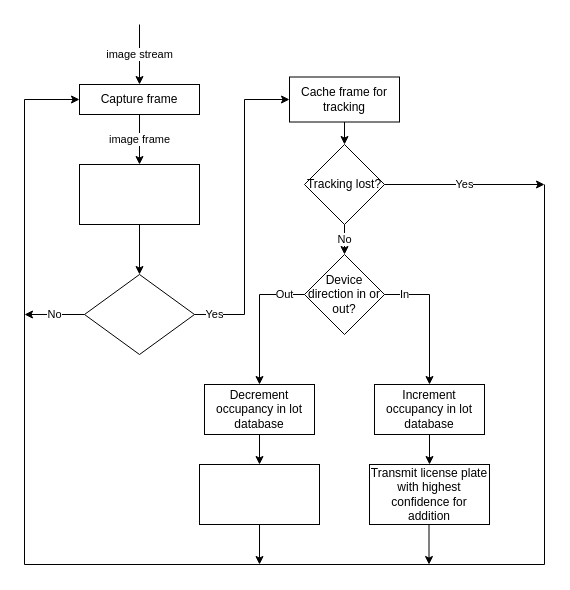
This 570x590 diagram has some shape labels left out. The shapes that lost their labels are listed below. From the top down, each one's centre as x and y in pixels, then its label:
At [139,194]: "YOLOv11n License Plate Detection Model".
At [139,314]: "License plate detected?".
At [259,494]: "Transmit license plate with highest confidence for removal".
